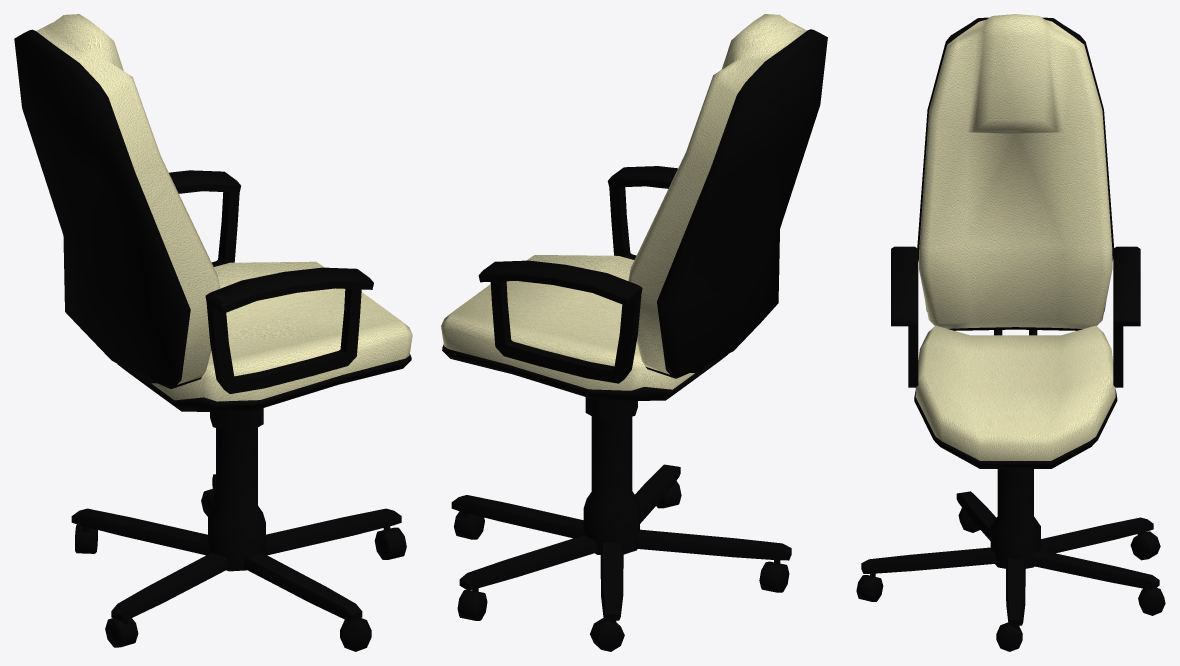
Rendered from FURNITURE_officeChair_01.FBX.
The picture shows the model from 3 angles, left to right: view 1: azimuth 30°, elevation 25°; view 2: azimuth 150°, elevation 25°; view 3: azimuth 270°, elevation 25°; orthographic projection. The views are drawn at different scales.
Visible parts, largest first — view 1: PROPS_officeChair_01; view 2: PROPS_officeChair_01; view 3: PROPS_officeChair_01.
Part boxes in pixels (left/top/right/bottom): PROPS_officeChair_01: left=14, top=14, right=412, bottom=651; PROPS_officeChair_01: left=441, top=14, right=827, bottom=651; PROPS_officeChair_01: left=856, top=14, right=1165, bottom=651.
Size of the model in its own units: 109 by 179 by 98.63.
Materials: 3 (1 with a texture image).
